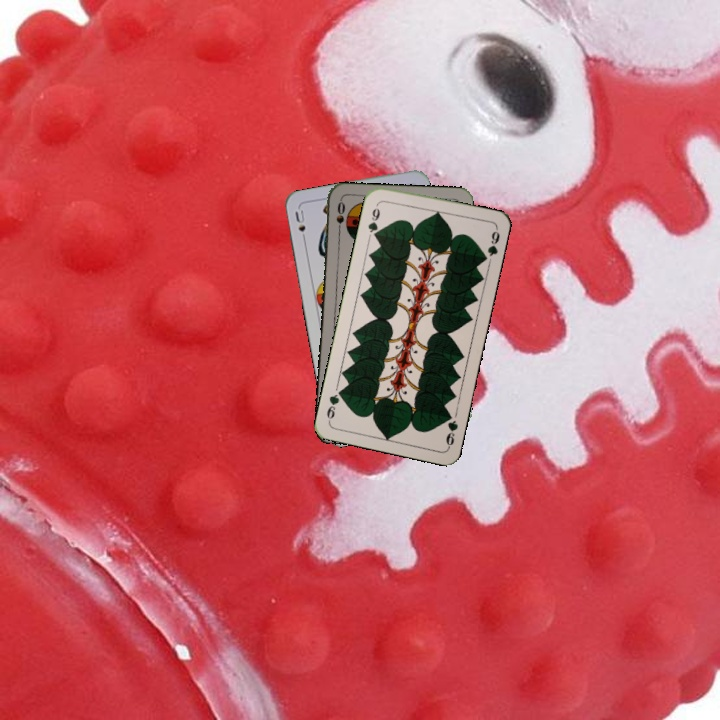G9: (442, 408, 461, 450), (364, 199, 382, 240)
SO: (332, 198, 347, 238)
SU: (291, 205, 309, 246)
